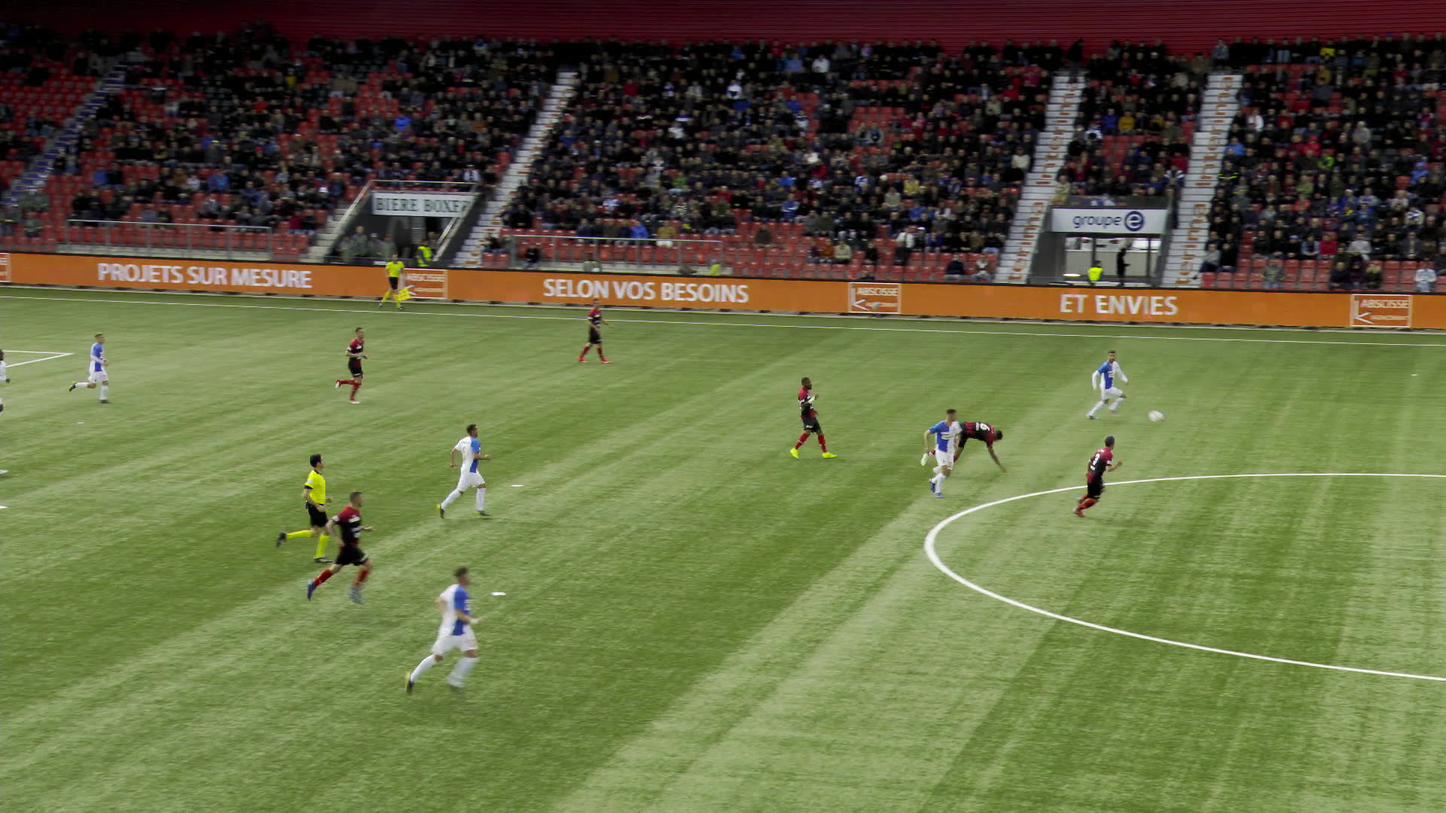ball: (1149, 410, 1162, 421)
player: (404, 565, 476, 699), (306, 489, 371, 608), (919, 416, 1010, 474), (437, 425, 490, 519), (1066, 434, 1121, 516), (789, 376, 839, 458), (69, 330, 117, 403), (928, 407, 966, 498), (333, 326, 370, 403), (1089, 349, 1127, 419), (581, 297, 616, 362), (0, 347, 15, 418)
referee: (273, 452, 334, 562), (382, 253, 413, 310)
